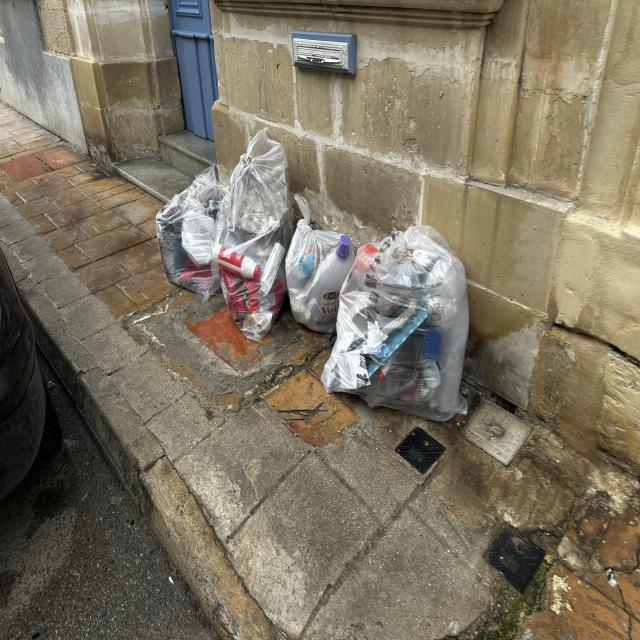Recyclable Material -Grey Bags-: (155, 127, 470, 423)
